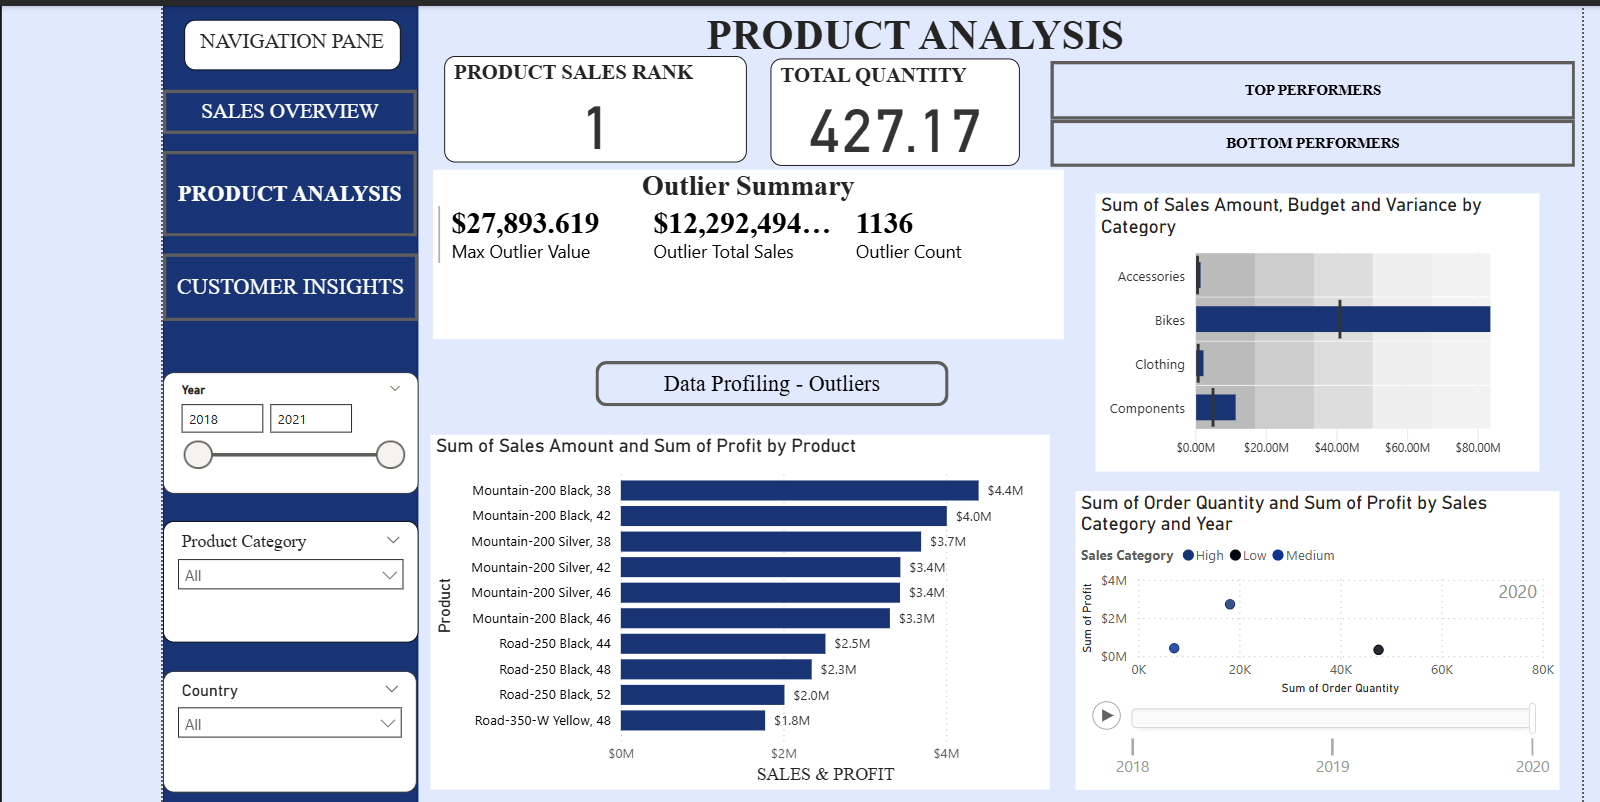

What the dashboard file says about the page in this screenshot:
{"tool":"powerbi","page":{"name":"Product Analysis","canvas":[1280,720],"ordinal":2},"visuals":[{"type":"slicer","fields":{"Values":["Date.Date.Variation.Date Hierarchy.Year"]},"box":[0,330.7,230.5,109.8],"z":0,"group":"g2"},{"type":"clusteredBarChart","fields":{"Category":["Product.Product"],"Y":["Sum(Sales.Sales Amount)"]},"box":[241.7,386.4,558.3,320],"z":0},{"type":"scatterChart","fields":{"X":["Sum(Sales.Order Quantity)"],"Y":["Sum(Sales.Profit)"],"Series":["Sales.Sales Category"],"Play":["Date.Date.Variation.Date Hierarchy.Year"]},"box":[823.3,437.7,436.4,269],"z":1000},{"type":"slicer","title":"Catrg","fields":{"Values":["Product.Category"]},"box":[0,465.2,230.5,109.8],"z":1000,"group":"g2"},{"type":"group","id":"g1","title":"Group 2","box":[0,0,230.1,720.3],"z":2000},{"type":"slicer","fields":{"Values":["Geography.Country-Region"]},"box":[0,599.7,229.2,109.8],"z":2000,"group":"g2"},{"type":"shape","box":[0,0,230.1,720.3],"z":3000,"group":"g1"},{"type":"textbox","box":[244.3,0,867.2,68.6],"z":3000},{"type":"actionButton","box":[0,130.6,228.9,77.1],"z":3000,"group":"g2"},{"type":"card","title":"PRODUCT SALES RANK","fields":{"Values":["Product.Product Sales Rank"]},"box":[253.9,45.3,273.1,96.1],"z":4000},{"type":"actionButton","box":[0,223.9,230.1,61],"z":4000,"group":"g2"},{"type":"card","title":"TOTAL QUANTITY","fields":{"Values":["Avg(Sales.Unit Price)"]},"box":[548.1,47.7,224.7,97],"z":5000},{"type":"actionButton","box":[0,75.9,228.9,39.8],"z":5000,"group":"g2"},{"type":"actionButton","box":[800,49.4,473.2,52.8],"z":6000},{"type":"group","id":"g2","title":"Group 1","box":[0,75.9,230.5,633.6],"z":6008,"group":"g1"},{"type":"actionButton","box":[800,102.1,473.2,42.6],"z":7000},{"type":"PBI_CV_9272D058_BEA0_476A_B090_A712545F92FA","fields":{"Value":["Sum(Sales.Sales Amount)"],"targets":["Sales.Budget"],"Category":["Product.Category"],"tooltips":["Customer.Variance"]},"box":[840.9,168.5,400,250.2],"z":8000},{"type":"textbox","box":[19.2,12.3,194.9,45.3],"z":9000},{"type":"multiRowCard","title":"Outlier Summary","fields":{"Values":["Customer.Max Outlier Value","Customer.Outlier Total Sales","Customer.Outlier Count"]},"box":[243.4,148.1,568.5,153.2],"z":10000},{"type":"actionButton","box":[389.8,320,318.3,40.9],"z":11000}]}

Visuals, with their boxes on the page's 1280x720 design canvas (x1, y1, x2, y2). These are canvas units, not pixel positions in the 1600x802 screenshot, which may show the page scaled, cropped or inside an application window:
slicer - Date.Date.Variation.Date Hierarchy.Year: {"left": 0, "top": 331, "right": 230, "bottom": 440}
clusteredBarChart - Product.Product x Sum(Sales.Sales Amount): {"left": 242, "top": 386, "right": 800, "bottom": 706}
scatterChart - Sum(Sales.Order Quantity) x Sum(Sales.Profit): {"left": 823, "top": 438, "right": 1260, "bottom": 707}
"Catrg" slicer: {"left": 0, "top": 465, "right": 230, "bottom": 575}
"Group 2" group: {"left": 0, "top": 0, "right": 230, "bottom": 720}
slicer - Geography.Country-Region: {"left": 0, "top": 600, "right": 229, "bottom": 710}
shape: {"left": 0, "top": 0, "right": 230, "bottom": 720}
textbox: {"left": 244, "top": 0, "right": 1112, "bottom": 69}
actionButton: {"left": 0, "top": 131, "right": 229, "bottom": 208}
"PRODUCT SALES RANK" card: {"left": 254, "top": 45, "right": 527, "bottom": 141}
actionButton: {"left": 0, "top": 224, "right": 230, "bottom": 285}
"TOTAL QUANTITY" card: {"left": 548, "top": 48, "right": 773, "bottom": 145}
actionButton: {"left": 0, "top": 76, "right": 229, "bottom": 116}
actionButton: {"left": 800, "top": 49, "right": 1273, "bottom": 102}
"Group 1" group: {"left": 0, "top": 76, "right": 230, "bottom": 710}
actionButton: {"left": 800, "top": 102, "right": 1273, "bottom": 145}
PBI_CV_9272D058_BEA0_476A_B090_A712545F92FA - Sum(Sales.Sales Amount) x Sales.Budget: {"left": 841, "top": 168, "right": 1241, "bottom": 419}
textbox: {"left": 19, "top": 12, "right": 214, "bottom": 58}
"Outlier Summary" multiRowCard: {"left": 243, "top": 148, "right": 812, "bottom": 301}
actionButton: {"left": 390, "top": 320, "right": 708, "bottom": 361}
